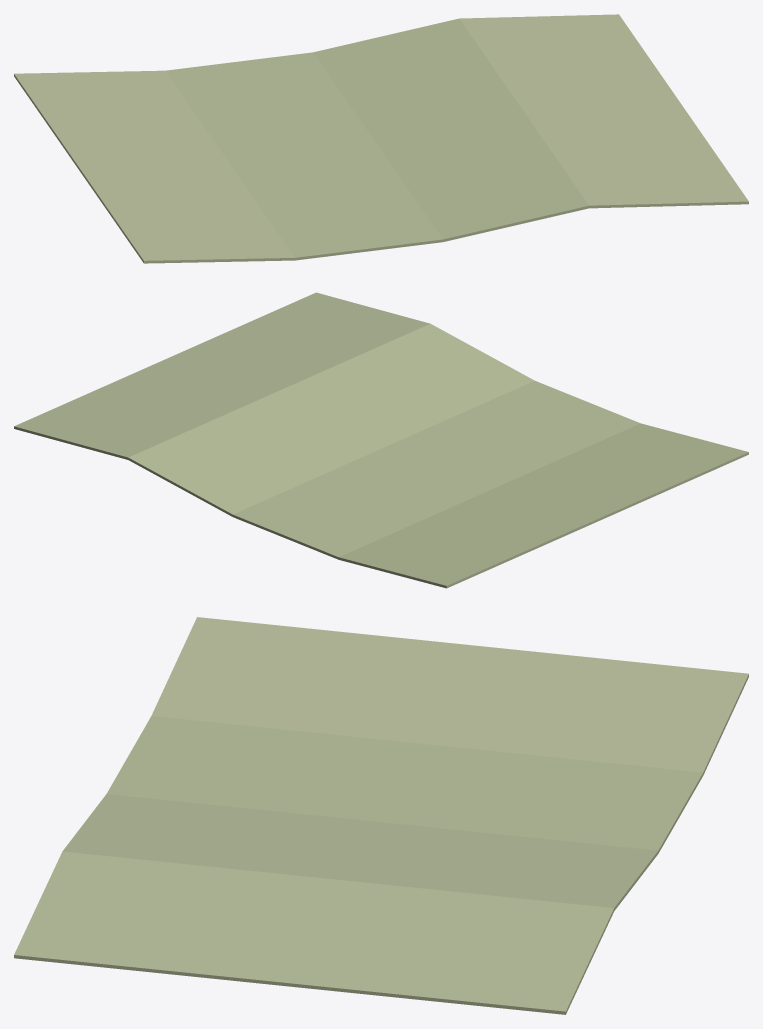
Rendered from Garage_Paper.fbx.
3 views of the same model, one above another, from view 1: azimuth 30°, elevation 25°; view 2: azimuth 150°, elevation 25°; view 3: azimuth 270°, elevation 25° (orthographic). The views are drawn at different scales.
Visible parts, largest first — view 1: Garage_Paper; view 2: Garage_Paper; view 3: Garage_Paper.
Part boxes in pixels (<box>): Garage_Paper: <box>14,14,748,263</box>; Garage_Paper: <box>14,292,748,588</box>; Garage_Paper: <box>14,617,748,1014</box>.
Size of the model in its own units: 57.44 by 1.62 by 47.54.
